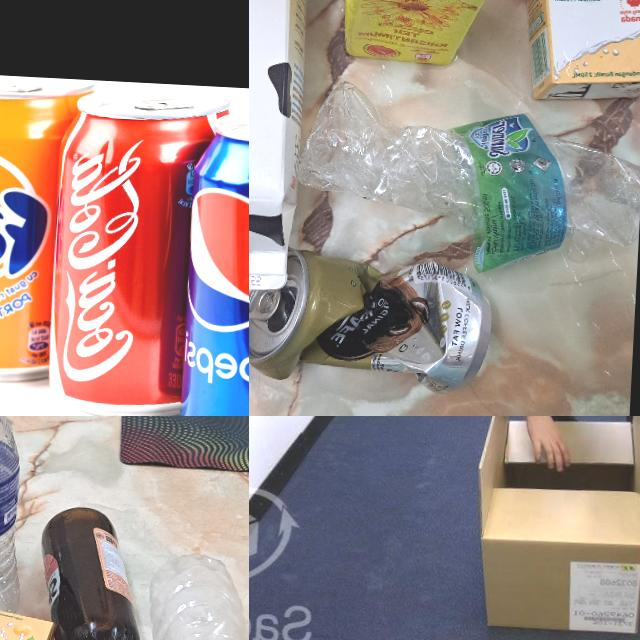aba de lata: (130, 90, 197, 116), (249, 286, 282, 320), (0, 73, 43, 92)
caixinha: (249, 0, 319, 302), (502, 0, 640, 105), (343, 0, 515, 68)
garrafa de vidro: (30, 507, 149, 640)
garrafa plástica: (293, 78, 640, 283), (139, 551, 249, 640), (0, 416, 29, 640)
lata: (45, 82, 231, 416), (249, 246, 494, 395), (0, 71, 95, 387), (180, 104, 249, 416)
papelão: (470, 416, 640, 636)
